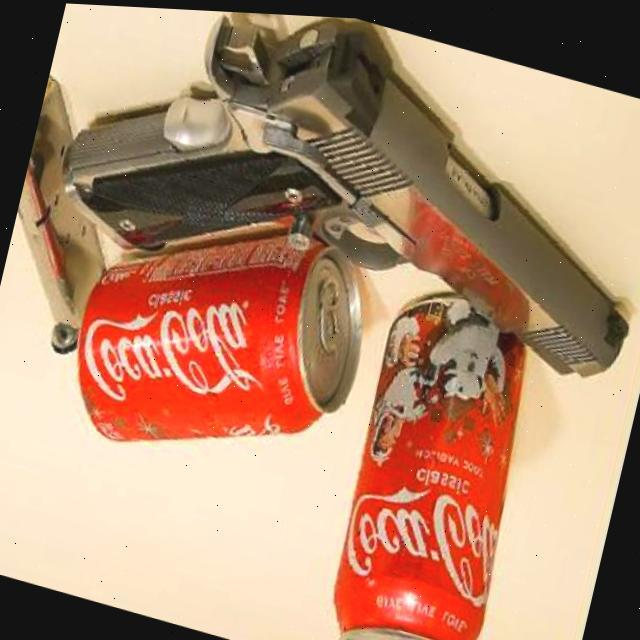gun: (32, 1, 640, 436)
